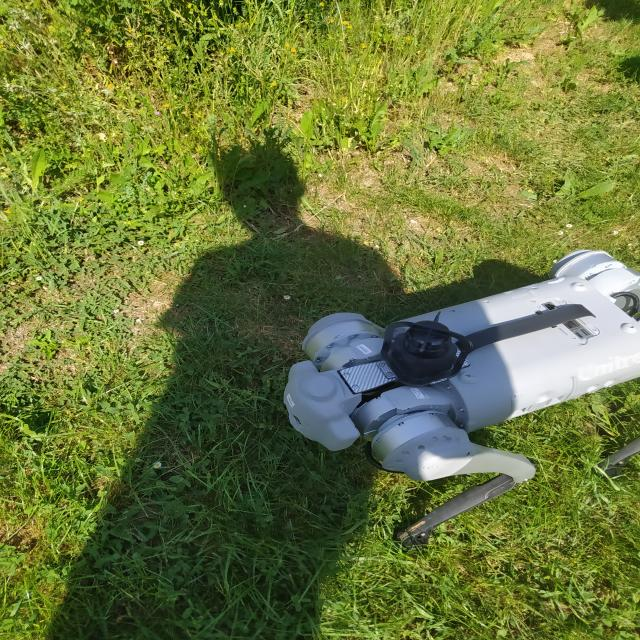unitree-go1-robot: (269, 236, 640, 552)
